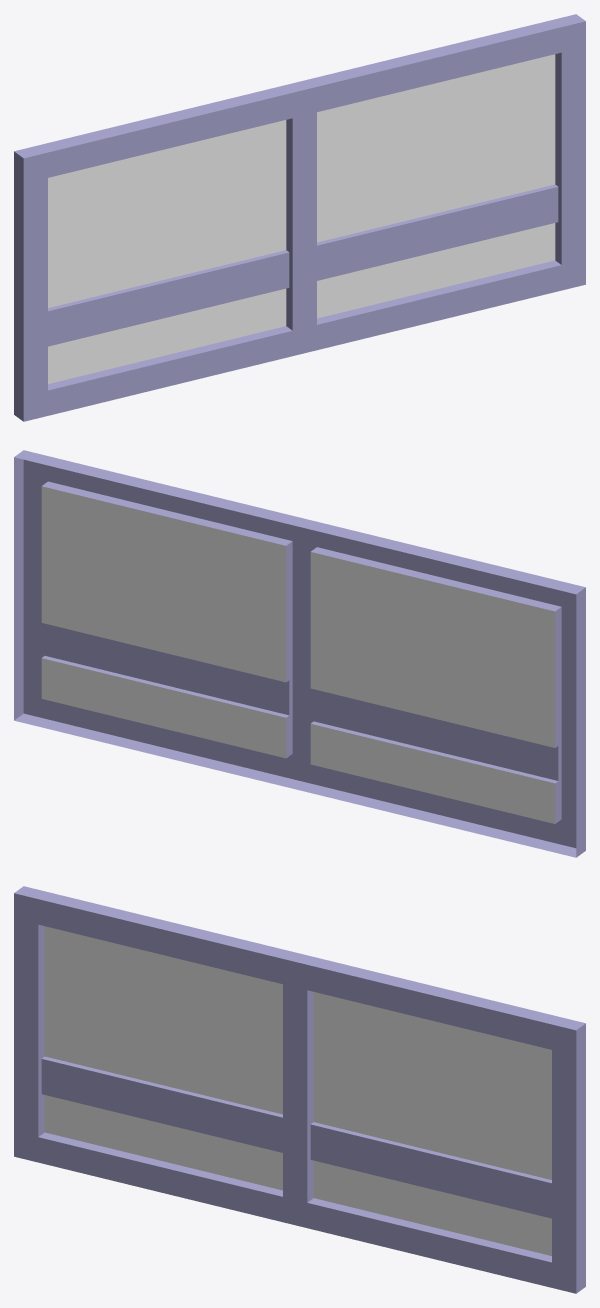
The model's file is window11.obj.
The picture shows the model from 3 angles, top to bottom: view 1: azimuth 30°, elevation 25°; view 2: azimuth 150°, elevation 25°; view 3: azimuth 330°, elevation 25°; orthographic projection.
Parts seen in each view (by area): view 1: mergedBlocks; view 2: mergedBlocks; view 3: mergedBlocks.
Part boxes in pixels (box(x1,y1,x2,y2)): mergedBlocks: box(14, 14, 585, 421); mergedBlocks: box(14, 450, 585, 857); mergedBlocks: box(14, 886, 585, 1293).
Size of the model in its own units: 1 by 0.4477 by 0.03.
